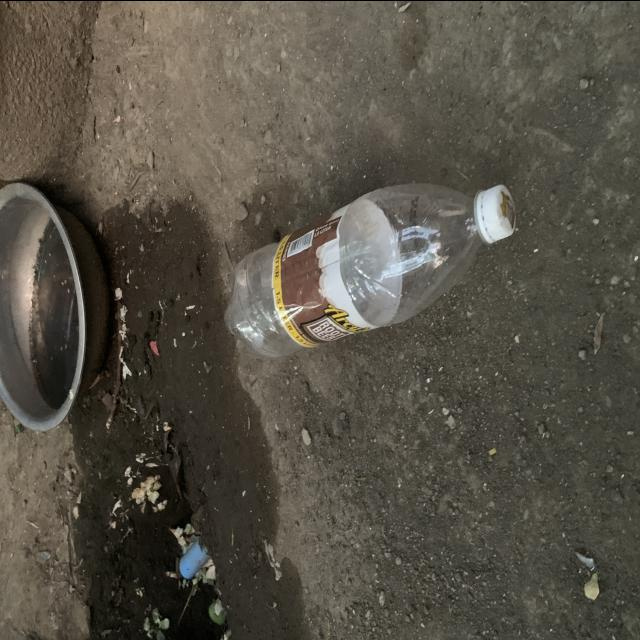Bottle: (225, 183, 515, 357)
